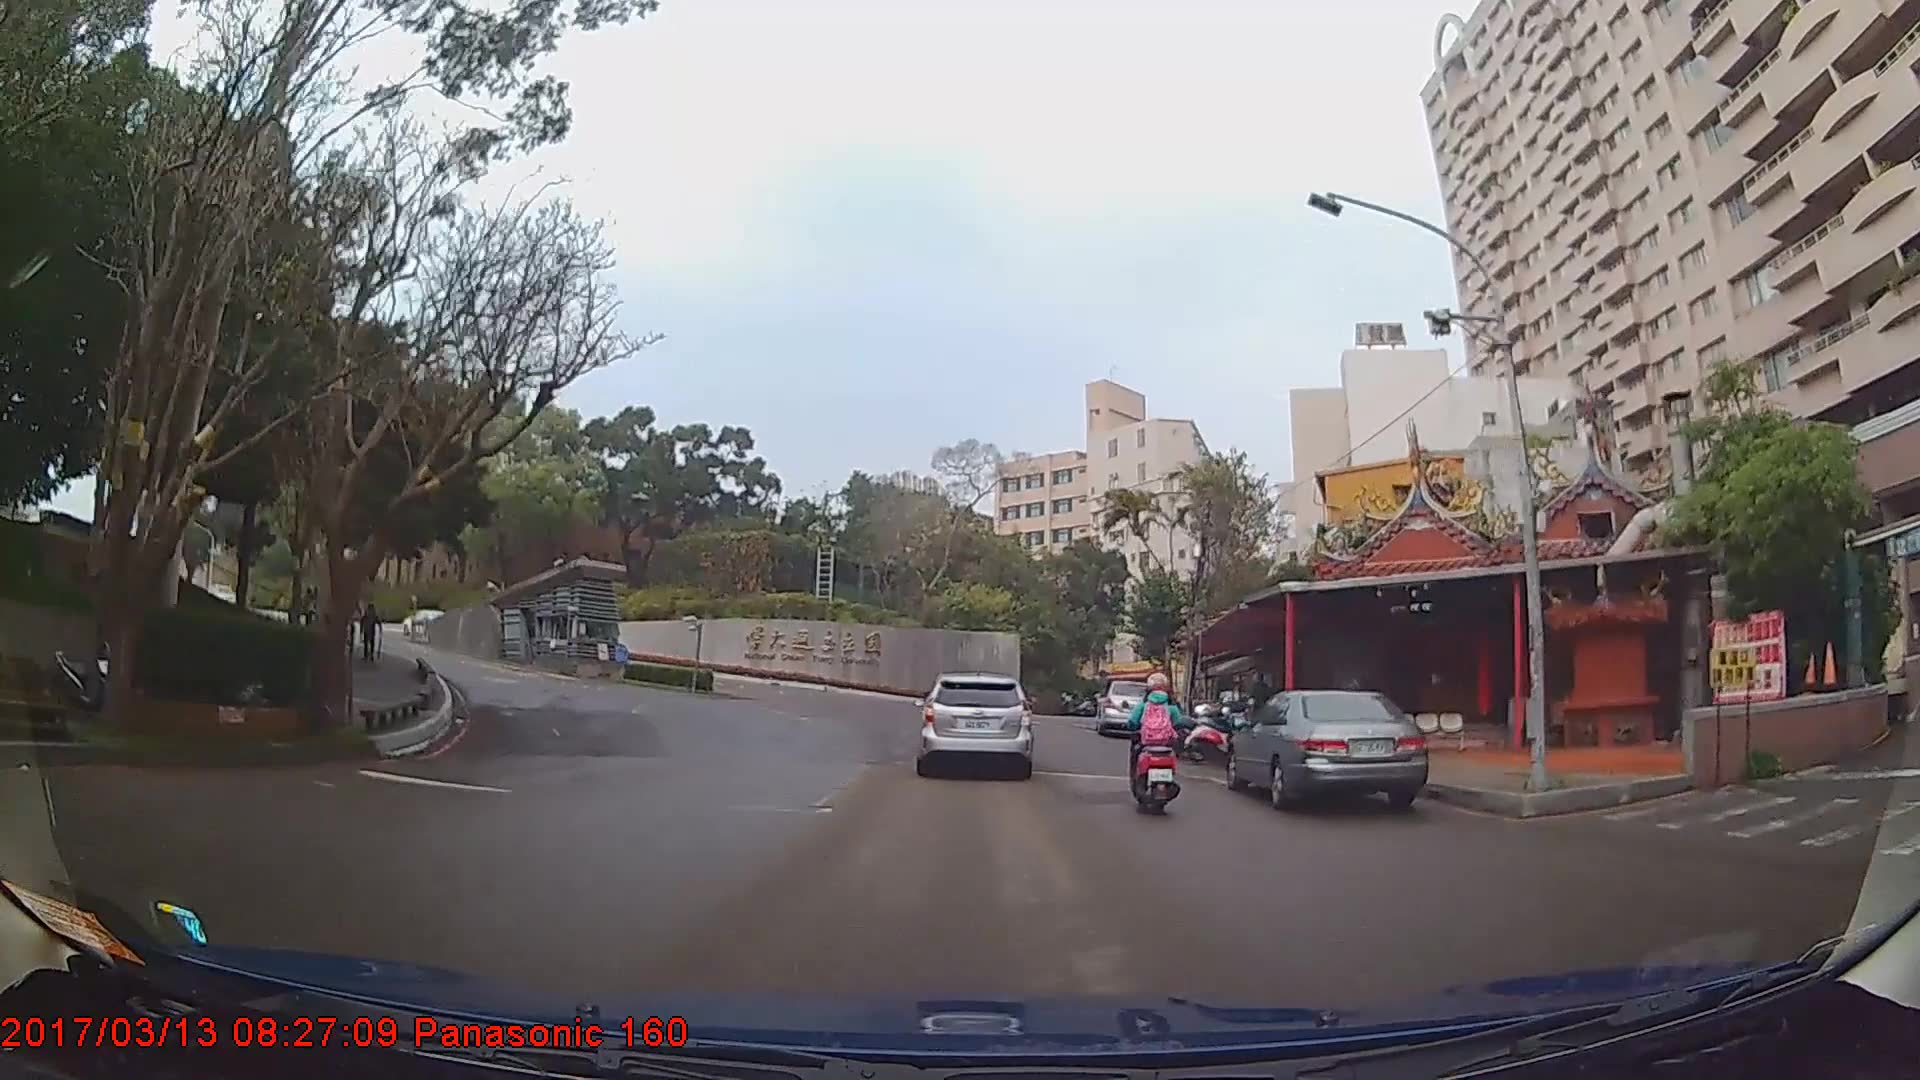pedestrian: (359, 604, 386, 665)
rider: (1126, 660, 1190, 813)
vehicle: (1224, 687, 1429, 815), (916, 669, 1031, 776), (1096, 677, 1157, 734)
